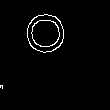O_E: (30, 15, 78, 61)
